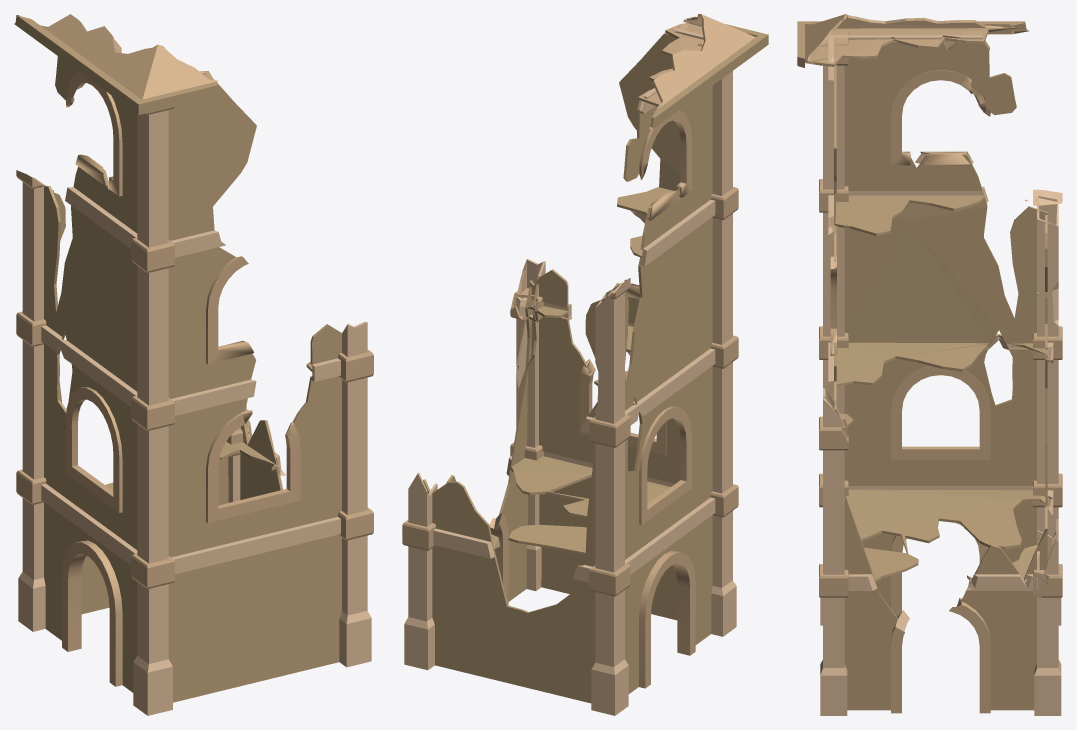
File: Tower Ruined.fbx
The picture shows the model from 3 angles, left to right: view 1: azimuth 30°, elevation 25°; view 2: azimuth 150°, elevation 25°; view 3: azimuth 270°, elevation 25°; orthographic projection. The views are drawn at different scales.
Visible parts, largest first — view 1: Cube.046; view 2: Cube.046; view 3: Cube.046.
Part boxes in pixels (x1,y1,x2,y2): Cube.046: (14,14,373,715); Cube.046: (402,14,768,715); Cube.046: (797,14,1062,715).
Bounding box in the file's own units: 485 × 1230 × 485.
